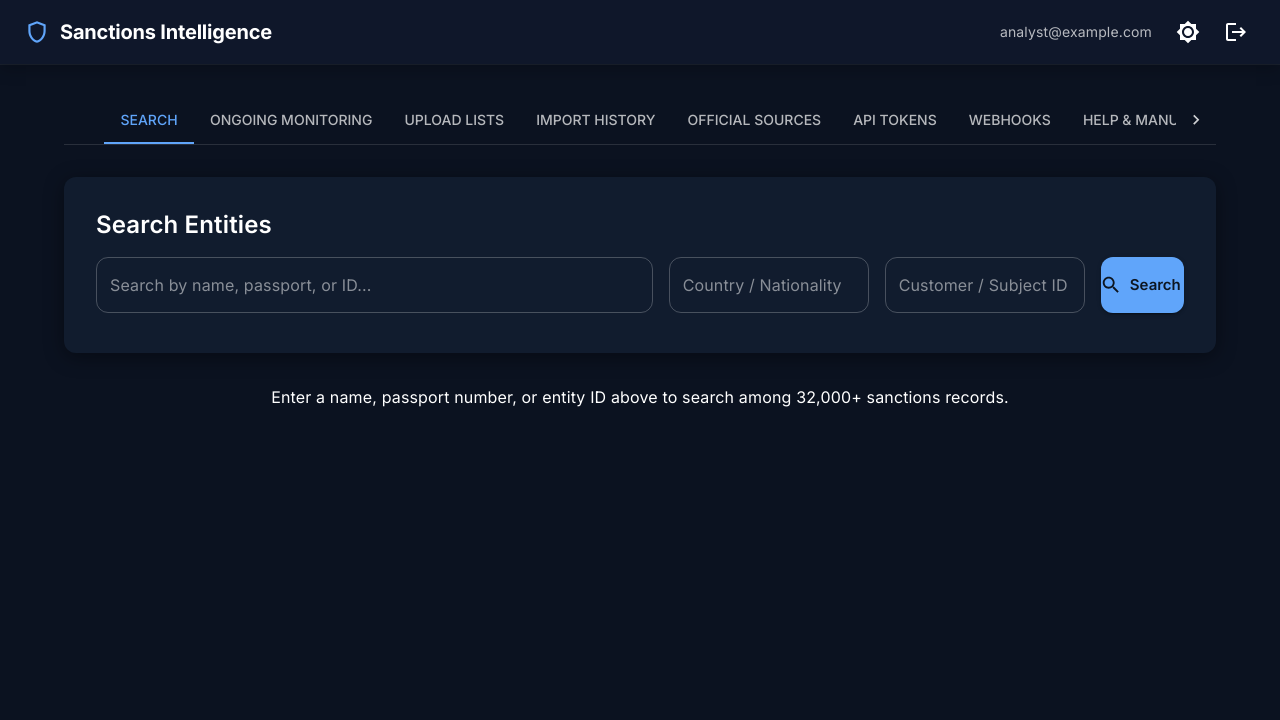
App component navigation tabs › opens the record detail view when a search result is clicked (issue #12)
Expected: the heading "Search Entities" is shown, [96,210,272,239]
In the field with placeholder "Search by name, passport, or ID...": (374, 285) [96,257,653,313], type "Test Person"
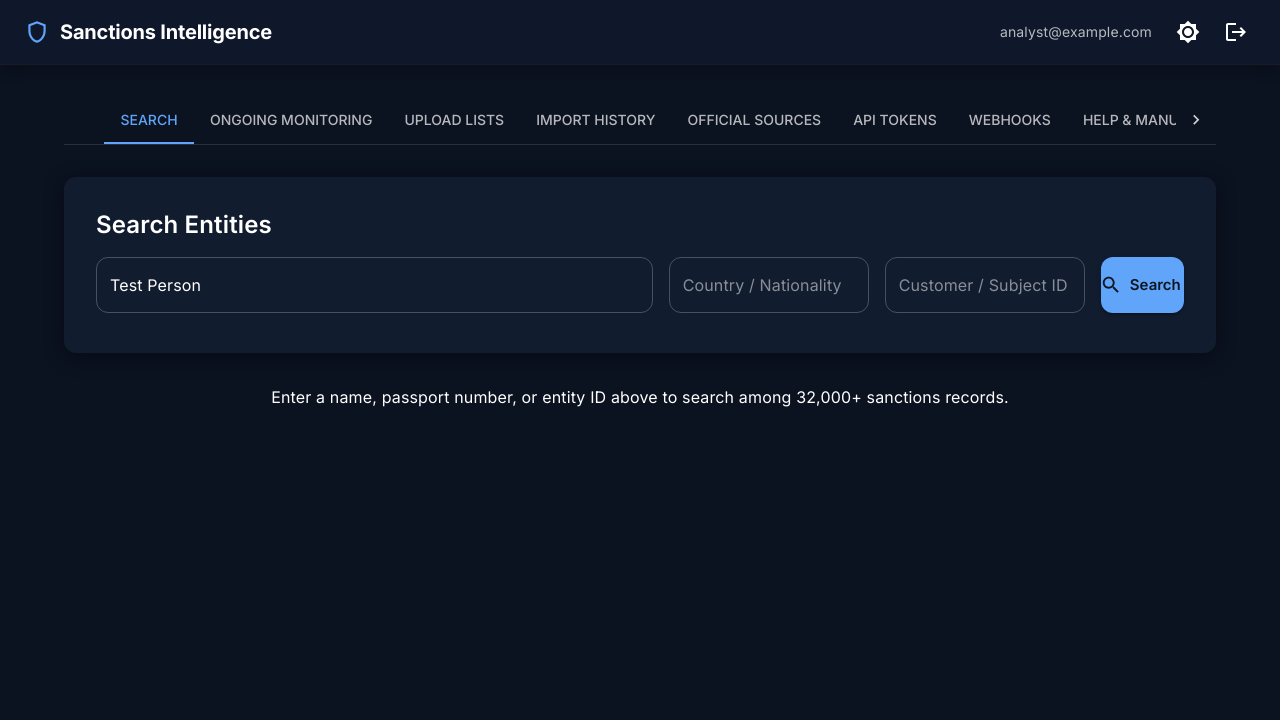
Click the button "Search": (1142, 285) [1101,257,1184,313]
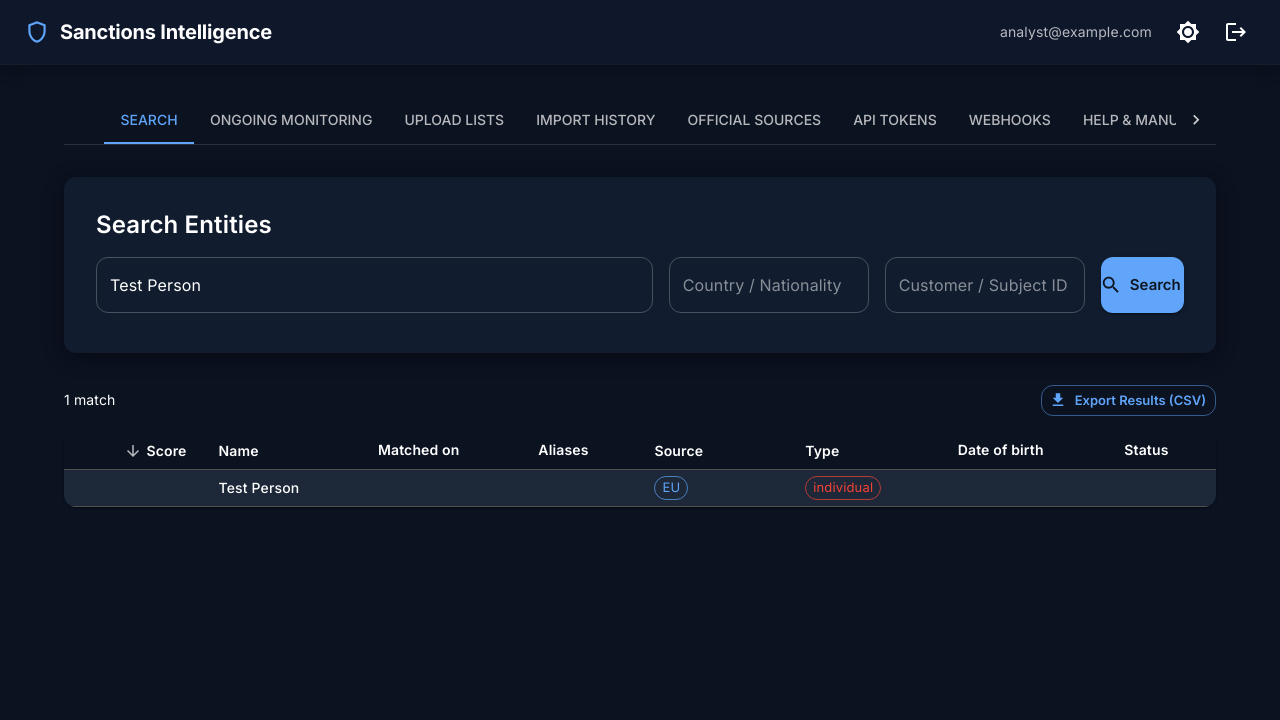
Now the text "Test Person" is shown
Click the text "Test Person": (282, 488) [202,470,362,507]
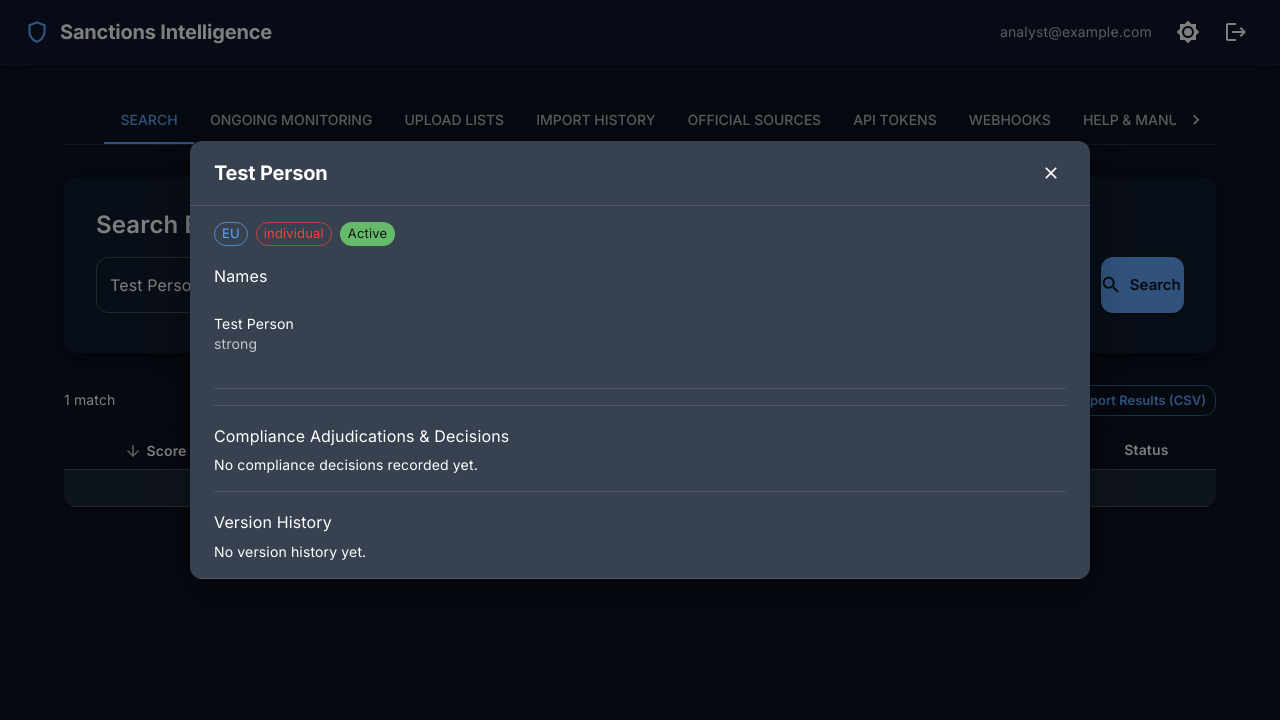
Now the dialog is shown, box [190,141,1090,579]
